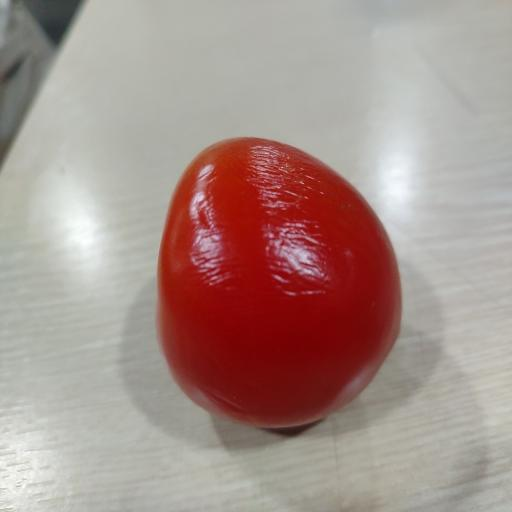spoiled: (157, 138, 402, 428)
